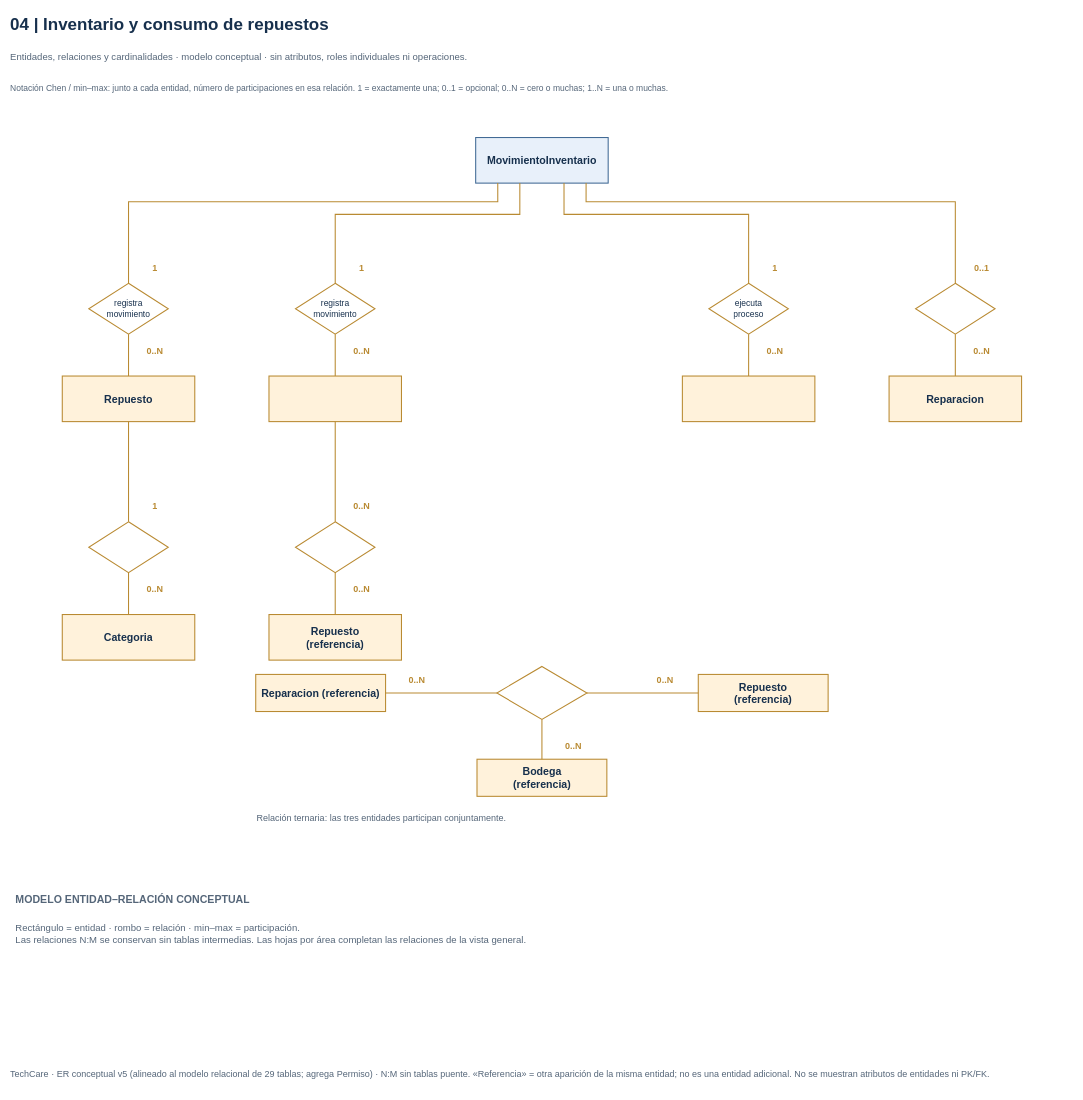
The diagram is 1083 pixels wide and 1100 high, and some of its shapes have lost their labels. The centre of each missing label's shape, as x and y in pixels:
"almacena" goes at point 335,547.
"Bodega" goes at point 335,398.
"clasifica" goes at point 128,547.
"consume desde" goes at point 541,693.
"origina salida" goes at point 955,308.
"Usuario" goes at point 748,398.
